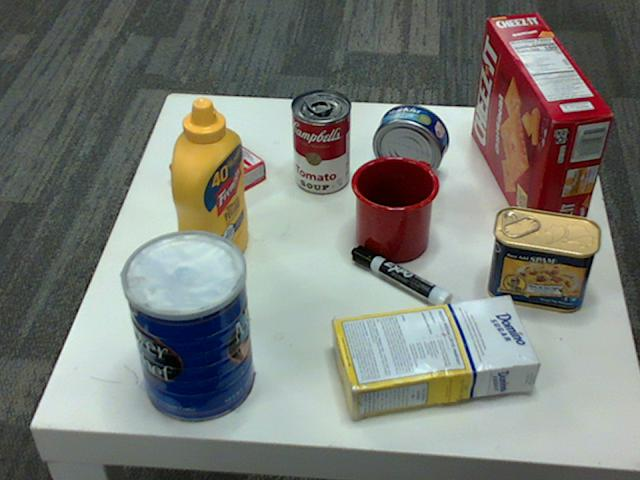cracker_box: (471, 11, 612, 241)
gelatin_box: (168, 132, 265, 207)
large_marker: (352, 246, 452, 314)
master_chef_can: (118, 232, 253, 424)
mug: (348, 154, 437, 261)
mustard_bottle: (168, 98, 248, 280)
potted_meat_can: (486, 207, 599, 312)
sugar_box: (328, 293, 537, 417)
tomato_soup_can: (290, 90, 350, 194)
tuna_fish_can: (371, 104, 447, 179)
